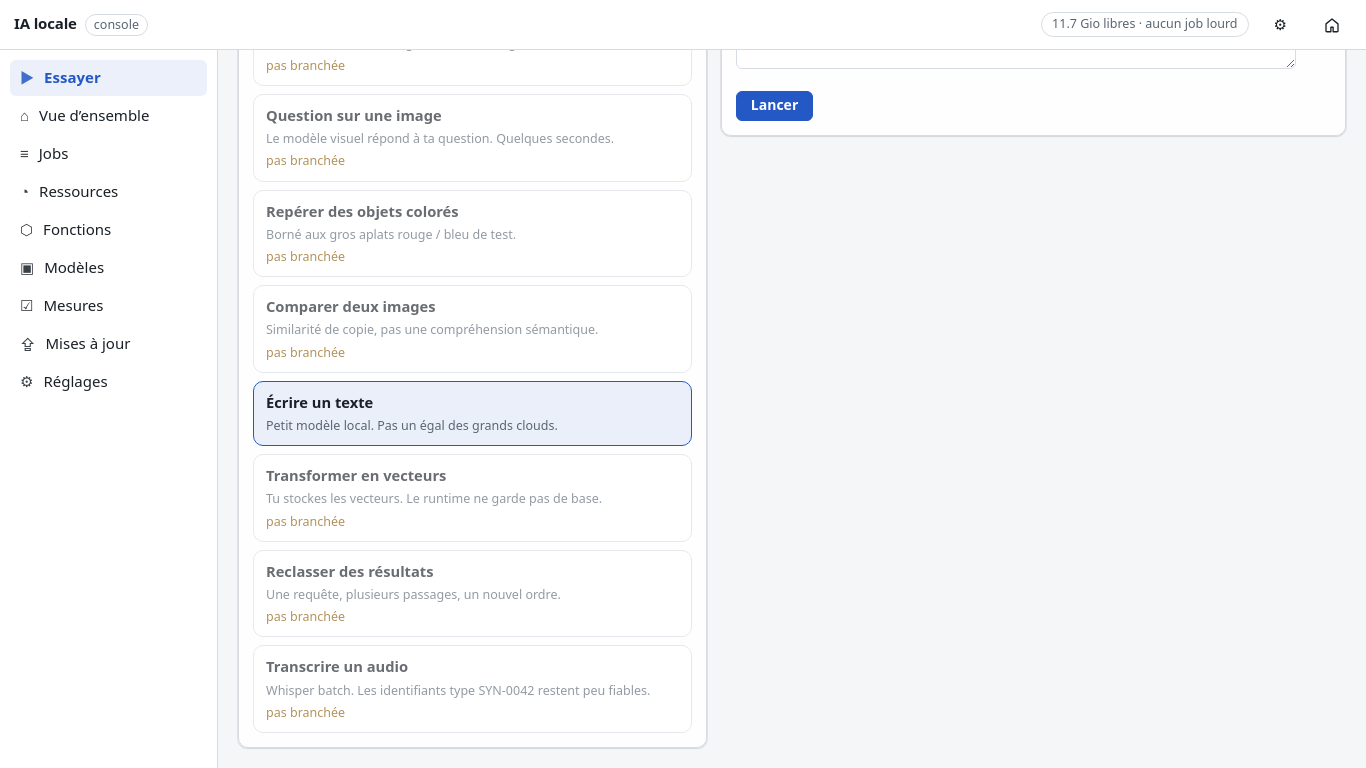
UI-01 live try › lets the operator pick a function and run text.generate
The width and height of the screenshot is (1366, 768).
(page scrolled)
Click the button "Écrire un texte" at {"x": 320, "y": 402}, box [253,381,692,446]
(page scrolled)
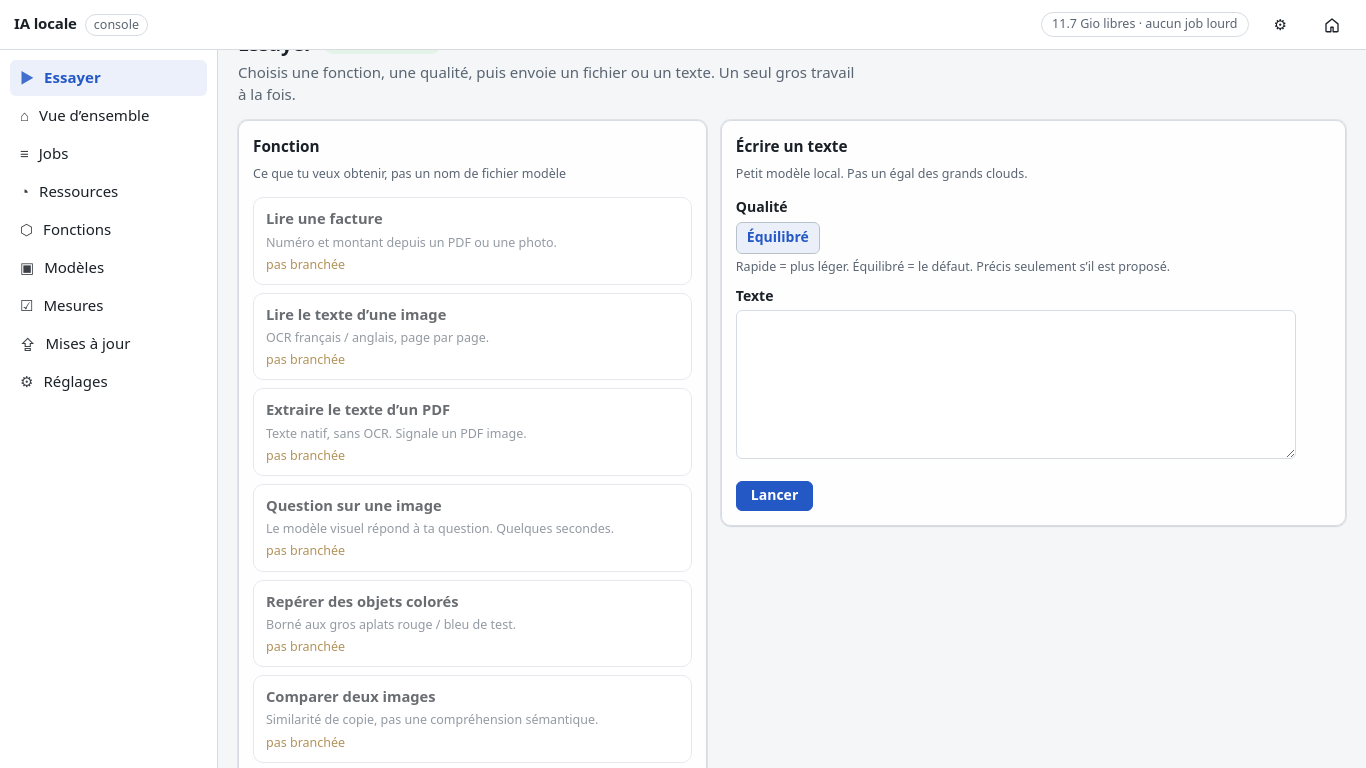
Type "hello" into the text box labelled "Texte" at {"x": 1016, "y": 384}, box [736,310,1296,458]
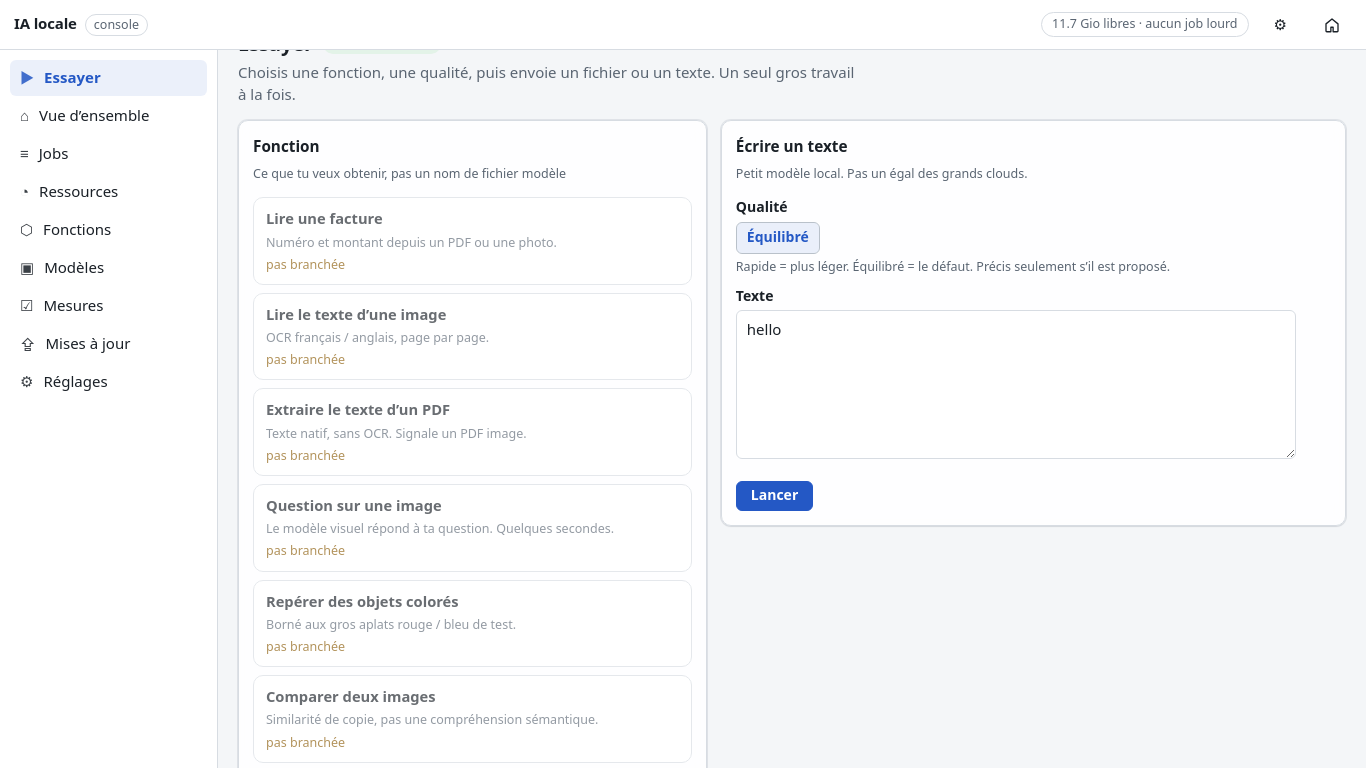
Click the button "Lancer" at {"x": 774, "y": 496}, box [736,480,813,510]
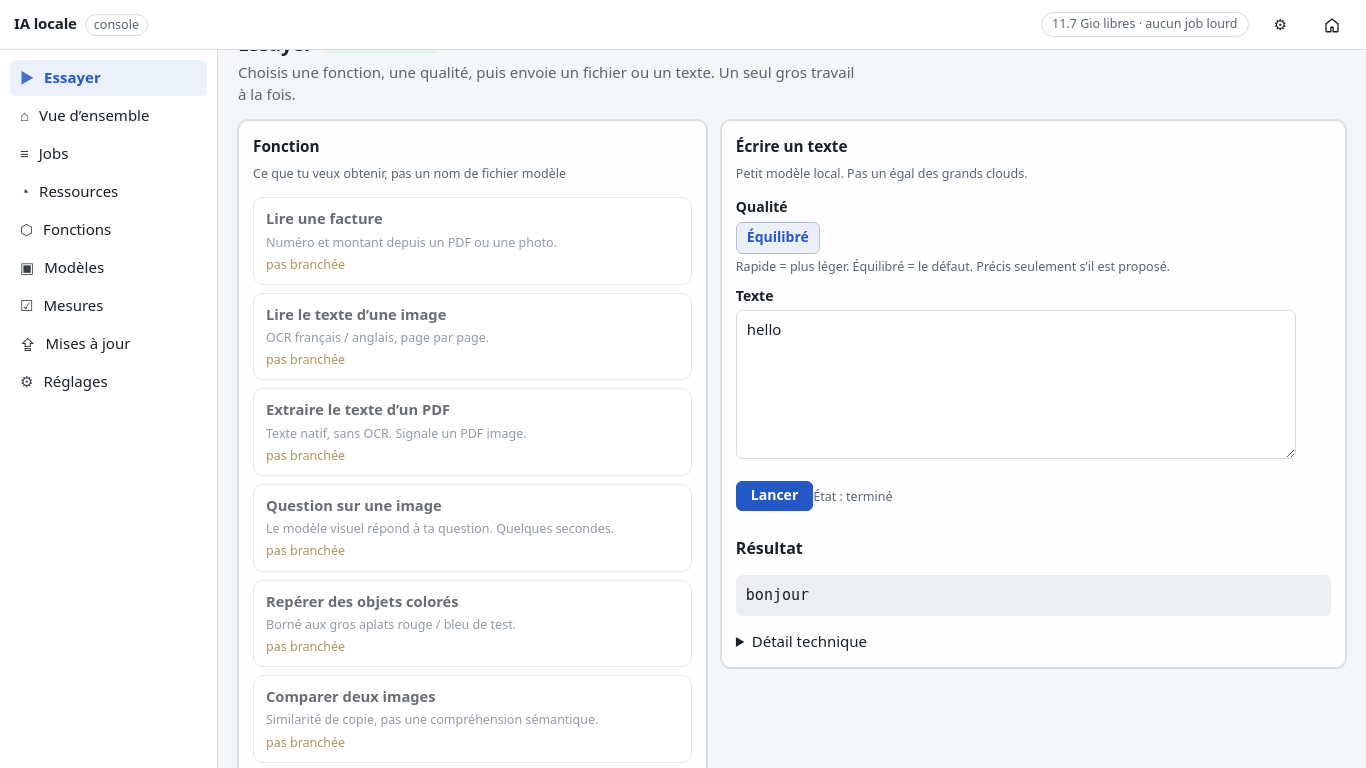
Expected: the text "bonjour" is shown, [736,575,1331,616]
